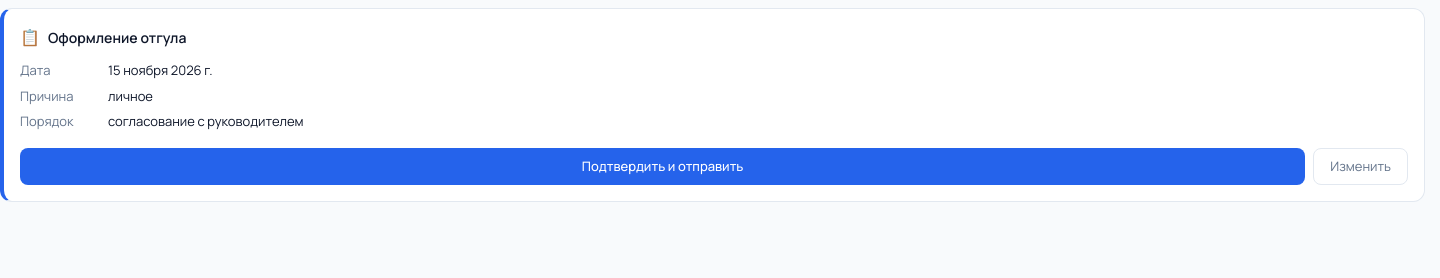
Scenario: ActionCard › «Отмена» в режиме редактирования не вызывает onUpdate и возвращает к proposal
Click the button "Изменить" at x=1361, y=166, box [1313,148,1408,185]
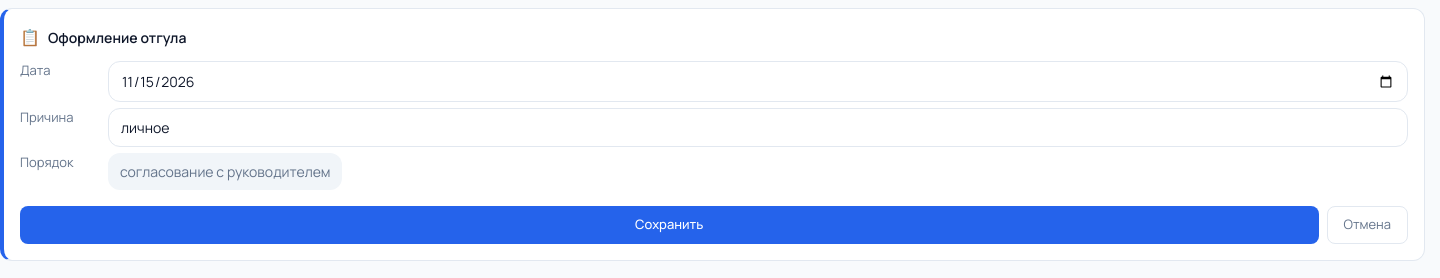
Click the button "Отмена" at x=1367, y=225, box [1326,206,1408,244]
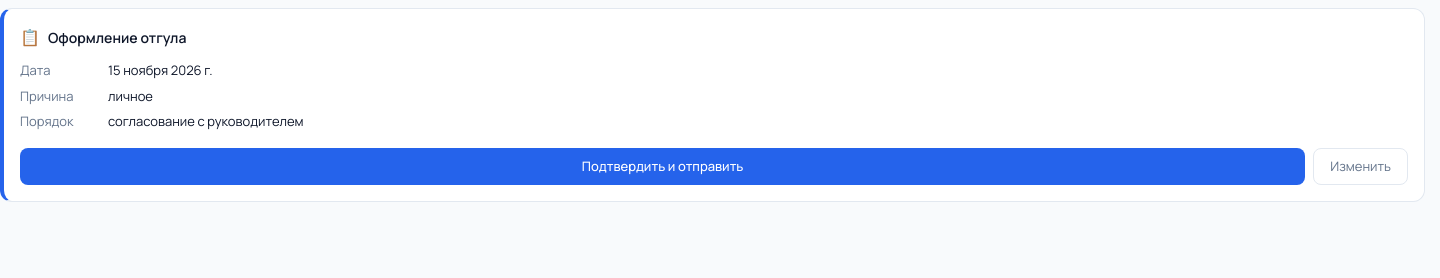
Expected: the button "Подтвердить и отправить" is shown, [20,148,1305,185]
Expected: the button "Изменить" is shown, [1313,148,1408,185]
